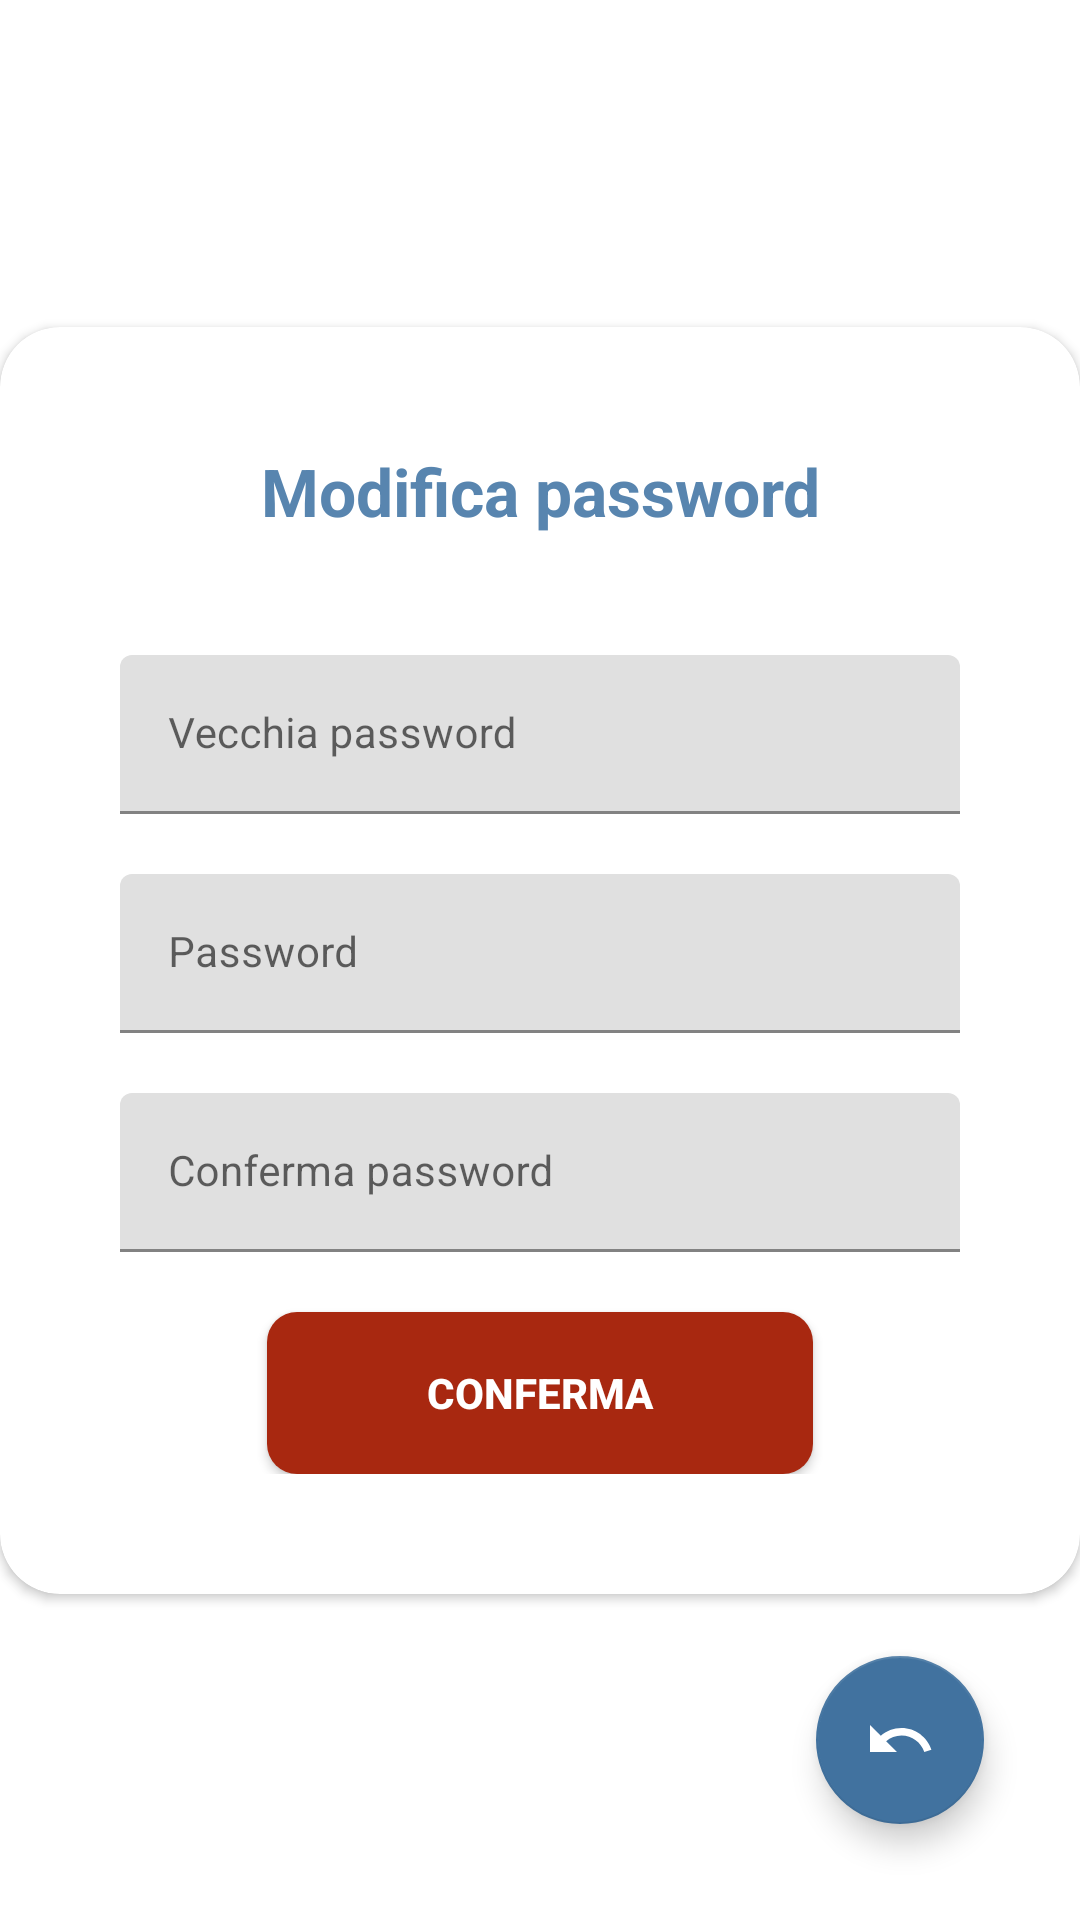

Locate icon controls on the screen. Image size 1080*1920, boxes as detection(x1, y1, x2, y2).
back: detection(816, 1656, 984, 1824)
